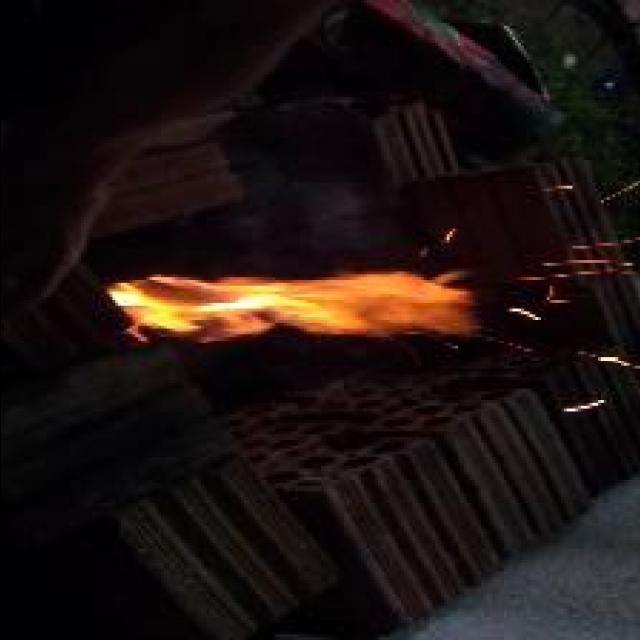Fire: (108, 266, 474, 343)
